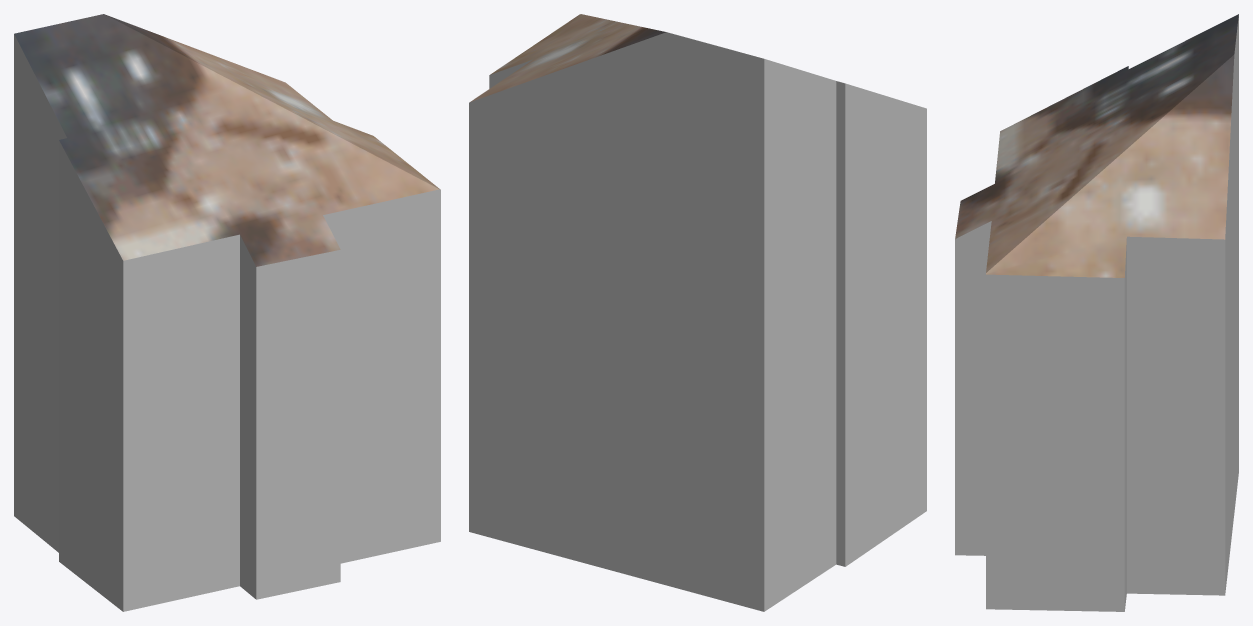
The model's file is DEBW_0010007Txbw.gltf.
3 views of the same model, side by side, from view 1: azimuth 30°, elevation 25°; view 2: azimuth 150°, elevation 25°; view 3: azimuth 270°, elevation 25° (orthographic). The views are drawn at different scales.
Visible parts, largest first — view 1: Z_UP; view 2: Z_UP; view 3: Z_UP.
Part boxes in pixels (x1=…): Z_UP: x1=14, y1=14, x2=440, y2=611; Z_UP: x1=469, y1=14, x2=926, y2=611; Z_UP: x1=955, y1=14, x2=1238, y2=611.
Bounding box in the file's own units: 13.17 × 19.22 × 10.77.
Materials: 2 (1 with a texture image).
